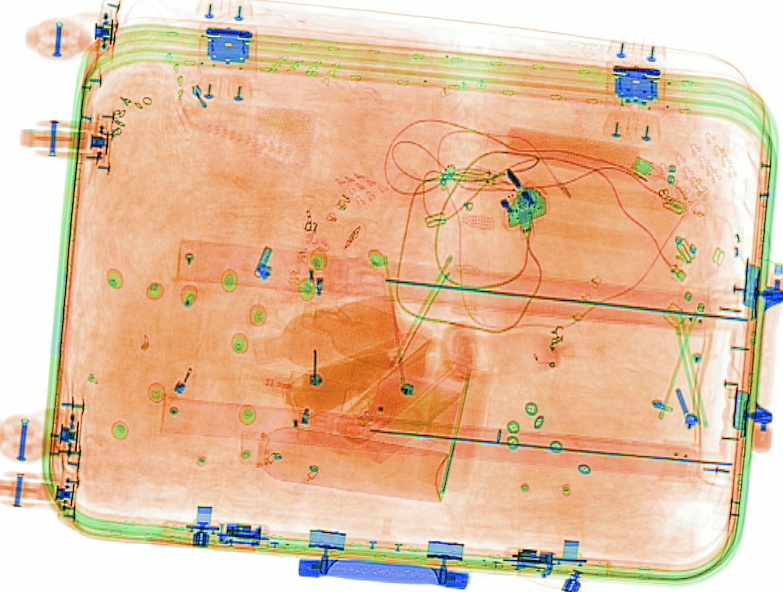pressure: (239, 420, 452, 504)
